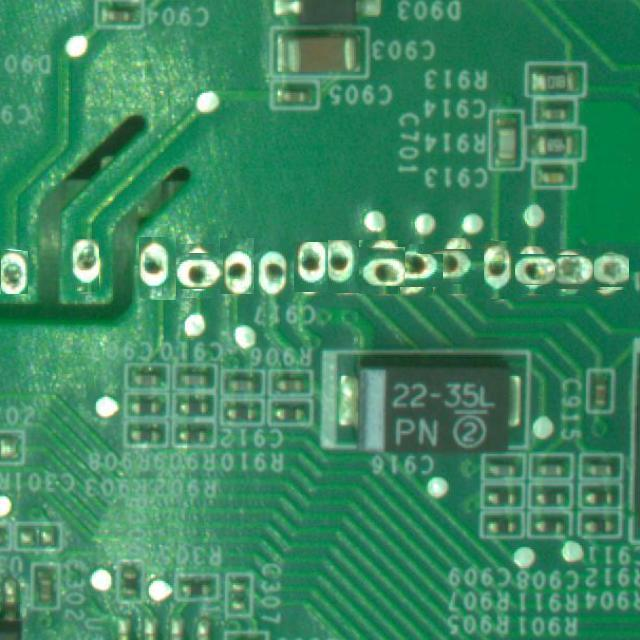lack_of_part: (474, 240, 516, 299), (138, 237, 176, 300), (433, 243, 479, 290), (355, 244, 402, 290), (254, 242, 294, 295), (174, 248, 219, 294), (220, 238, 254, 294), (395, 249, 438, 292), (327, 240, 359, 294), (294, 242, 328, 292), (550, 252, 591, 293), (70, 240, 99, 294), (512, 250, 551, 290), (591, 251, 627, 289), (0, 250, 28, 294)
